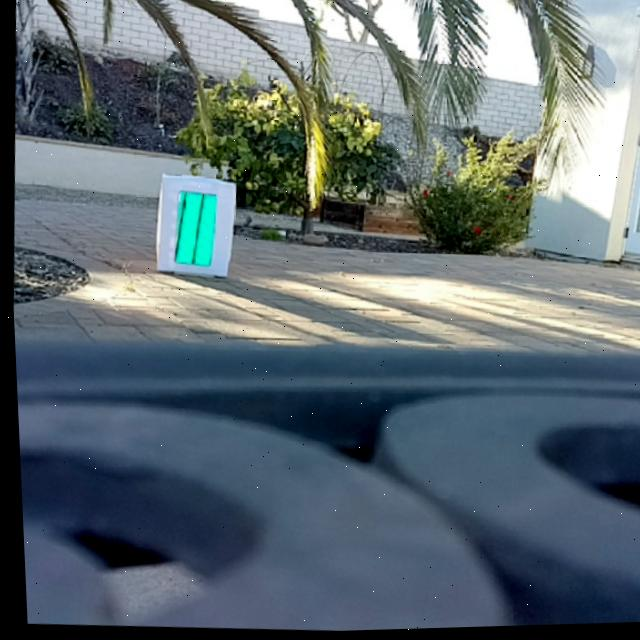led: (171, 193, 216, 268)
